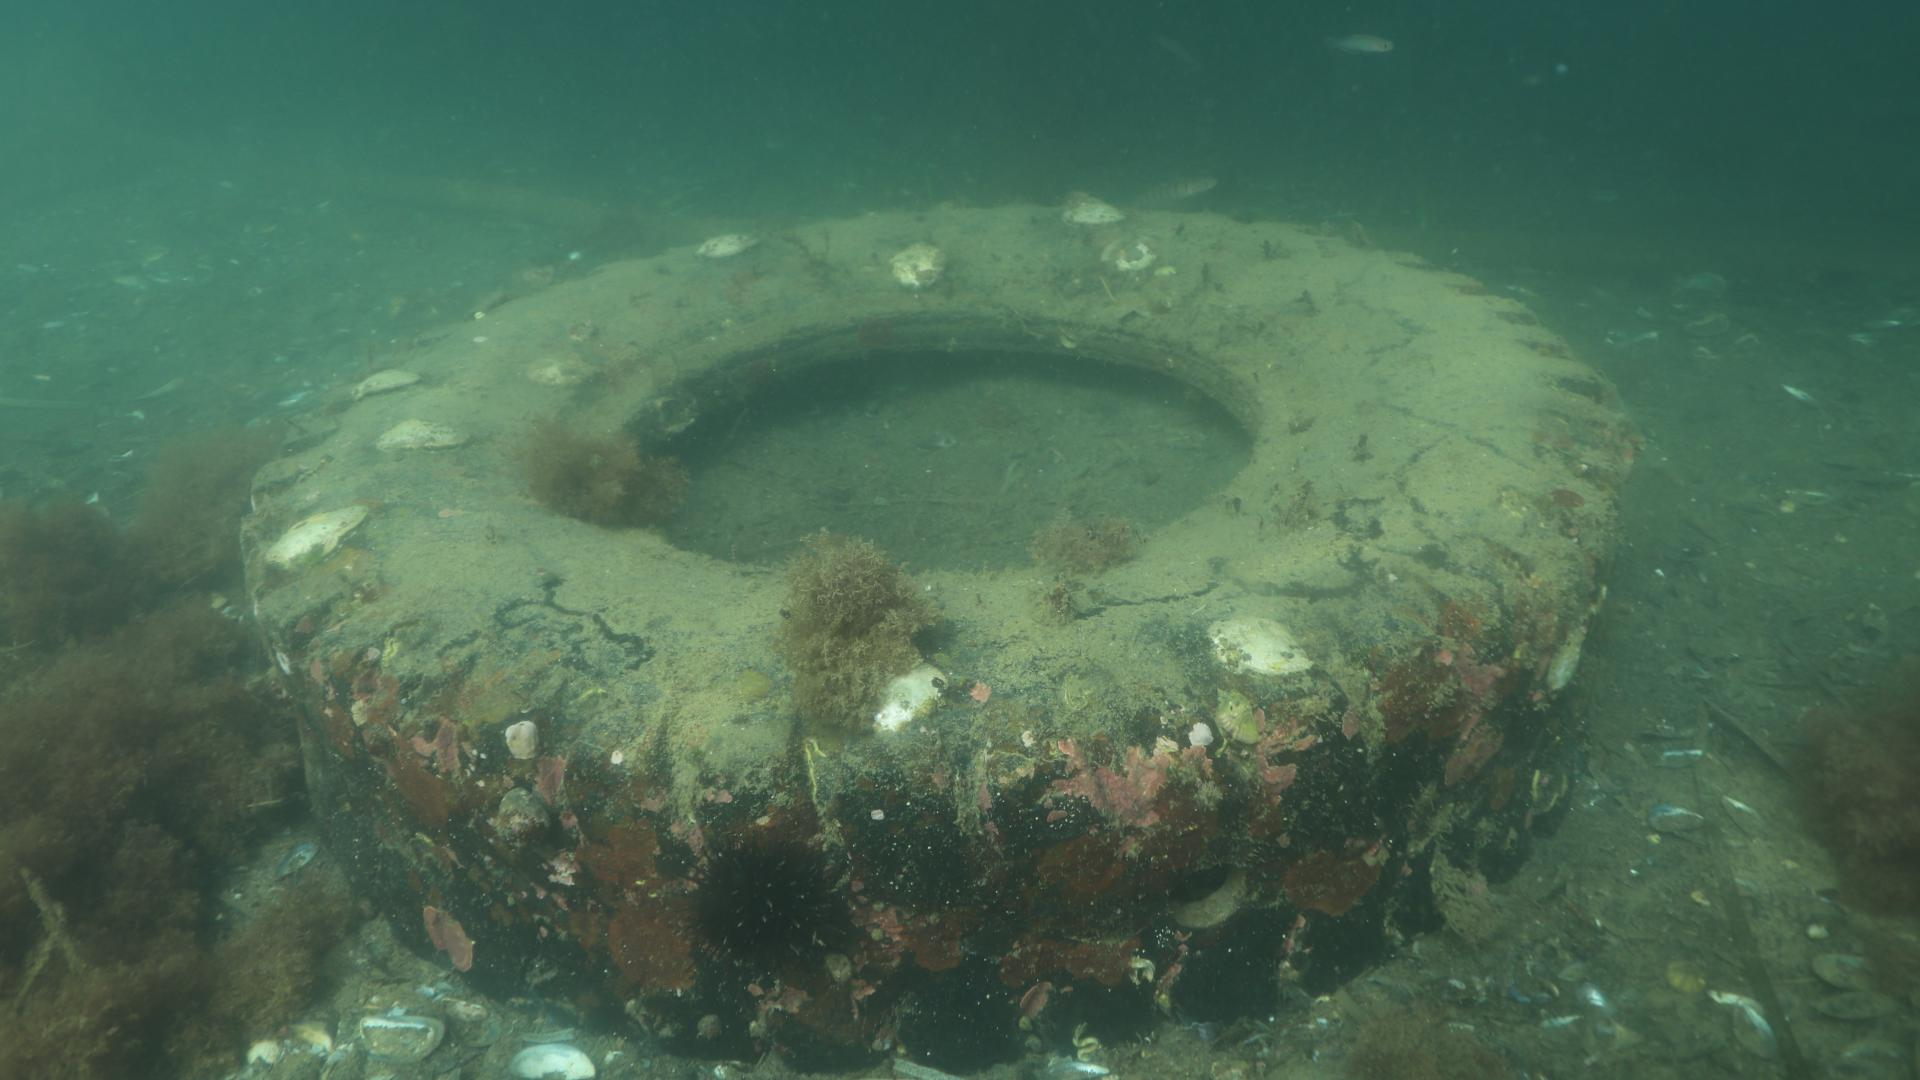tire: (236, 202, 1635, 1069)
